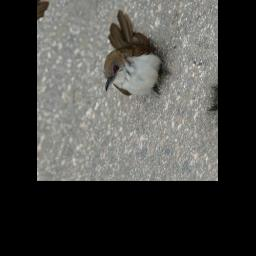Cuckoo: (89, 8, 187, 110)
